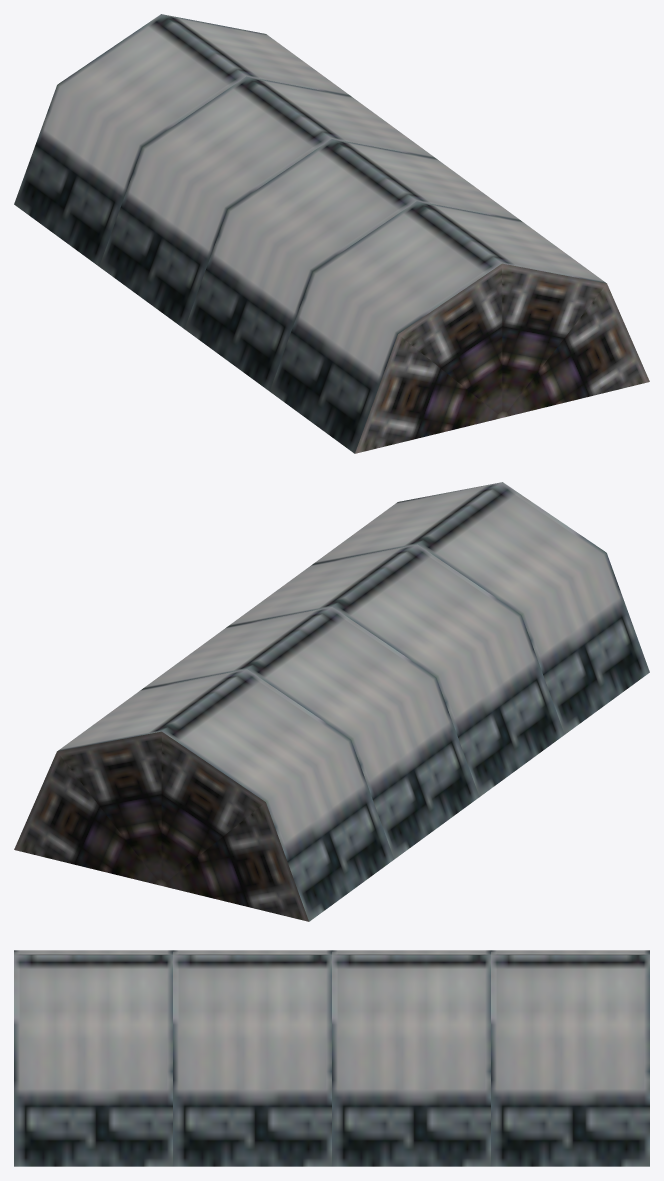
File: prop-076.glb
The picture shows the model from 3 angles, top to bottom: view 1: azimuth 30°, elevation 25°; view 2: azimuth 150°, elevation 25°; view 3: azimuth 270°, elevation 25°; orthographic projection. The views are drawn at different scales.
Visible parts, largest first — view 1: root; view 2: root; view 3: root.
Boxes of the visible parts, x1,y1,x2,y2 form: root: (14,14,649,453); root: (14,482,649,921); root: (14,950,649,1166).
Bounding box in the file's own units: 2 × 1 × 4.
Materials: 2 (2 with a texture image).
